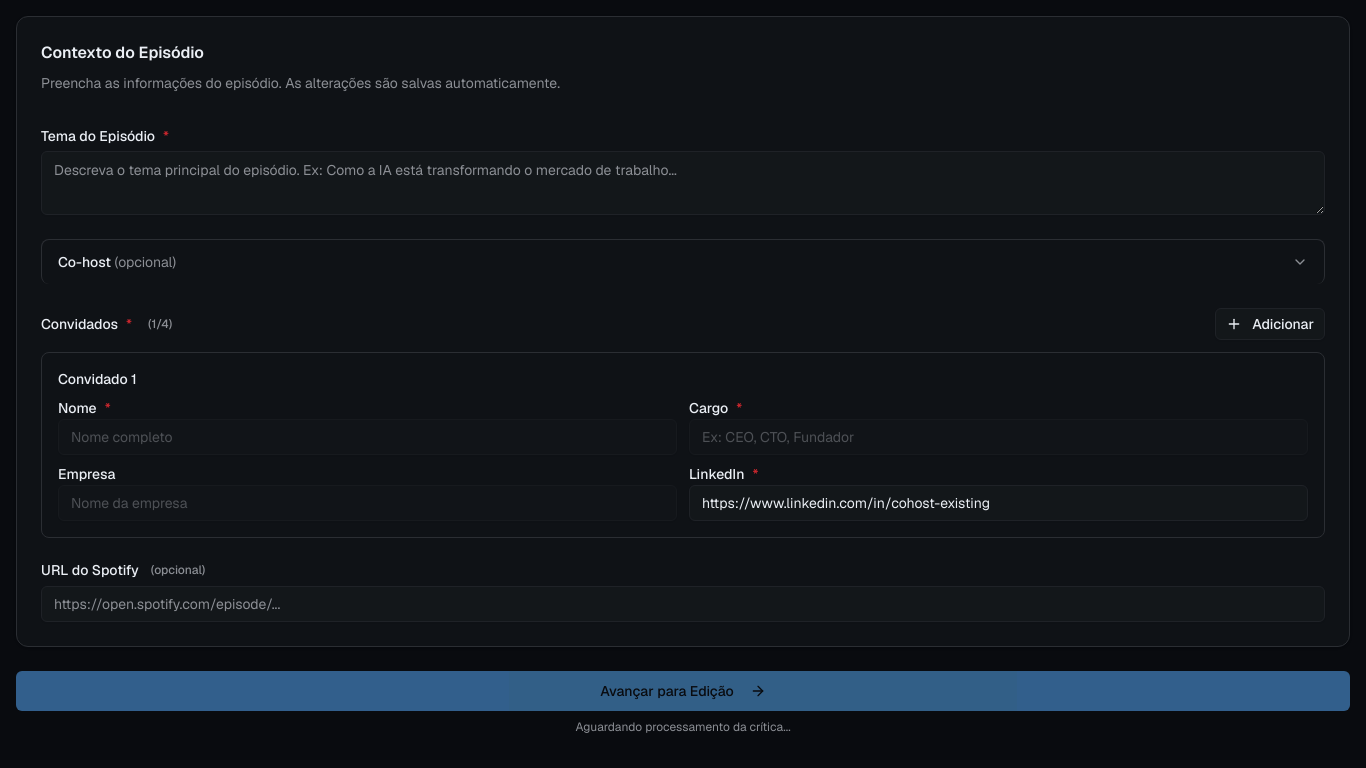
Test: Phase1Critique › Scrape-driven field unlock (Story 24.7) › unlocks and fills CO-HOST fields (camelCase path coHost.*, regression guard)
# Fill a theme so the save fires, then change the co-host LinkedIn URL
Replace the text in the text box labelled "Tema do Episódio *" with "tema qualquer". click: point(683, 183)
box: x1=41 y1=151 x2=1325 y2=215
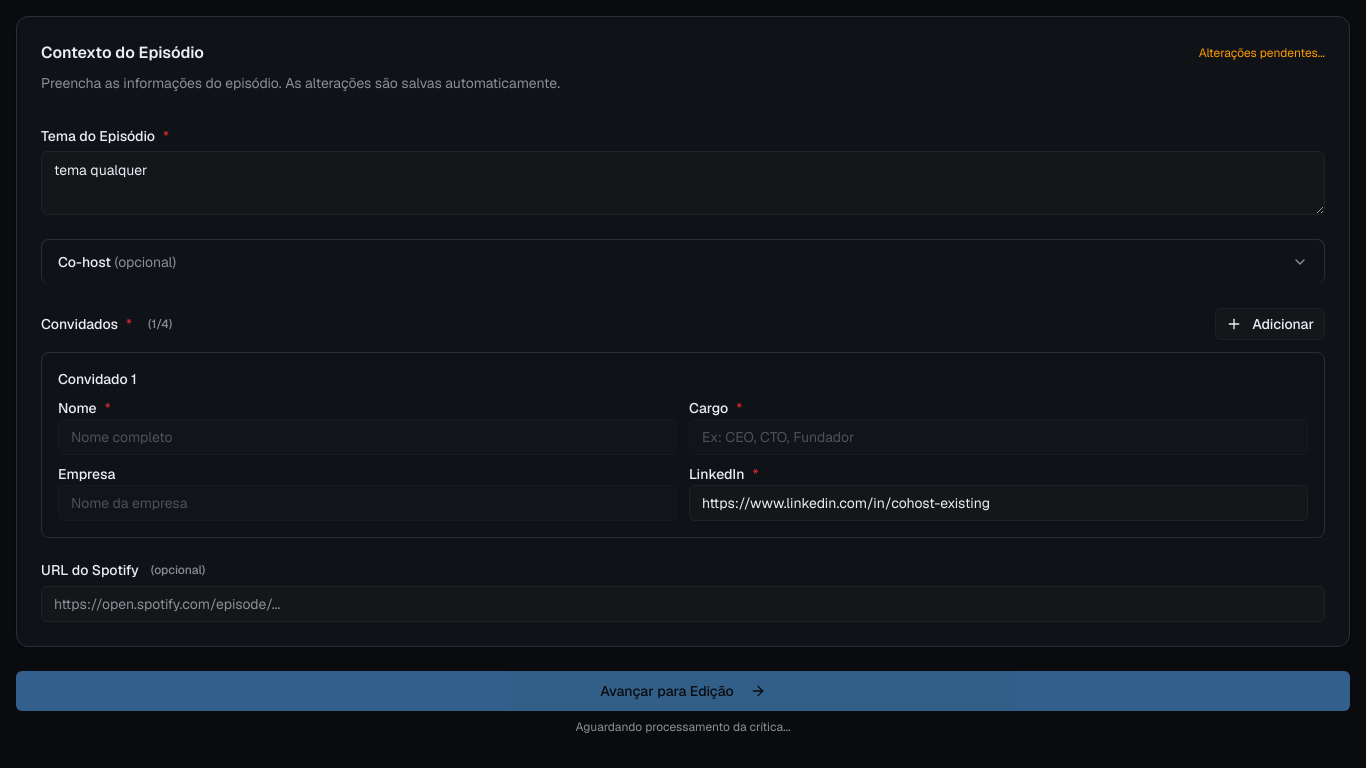
Replace the text in the field labelled "LinkedIn *" with "https://www.linkedin.com/in/cohost-new". click: point(998, 503)
box: x1=689 y1=485 x2=1308 y2=521
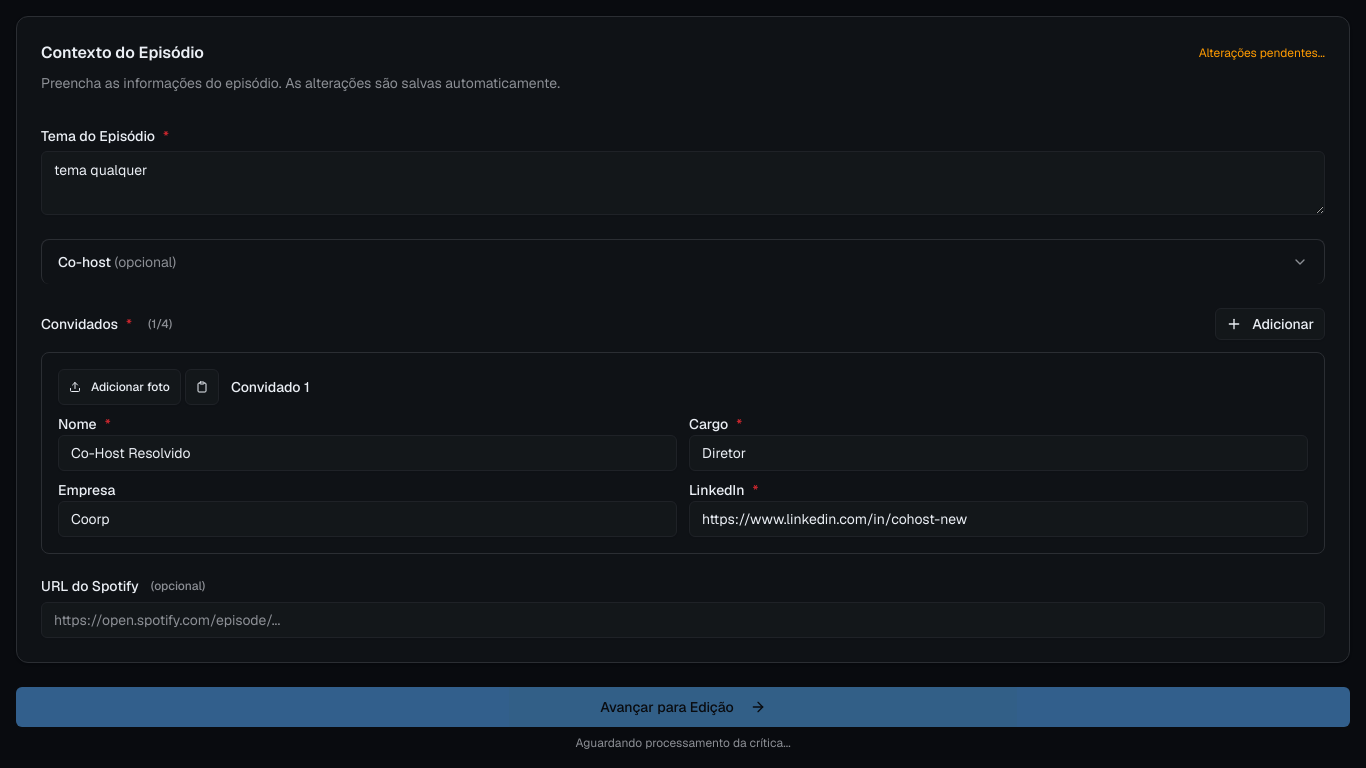
Expected: the field labelled "Nome *" holds "Co-Host Resolvido", x1=58 y1=435 x2=677 y2=471
Expected: the field labelled "Cargo *" holds "Diretor", x1=689 y1=435 x2=1308 y2=471
Expected: the field labelled "Empresa" holds "Coorp", x1=58 y1=501 x2=677 y2=537
